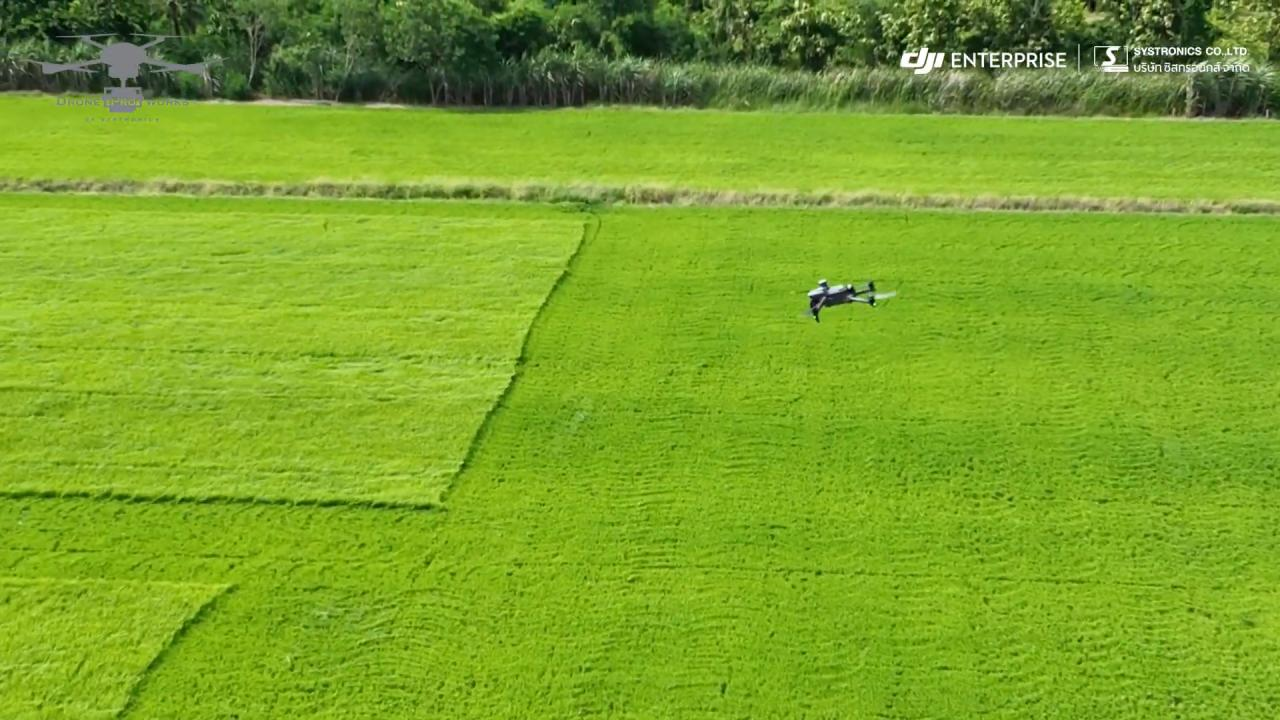Drone: (791, 268, 909, 332)
